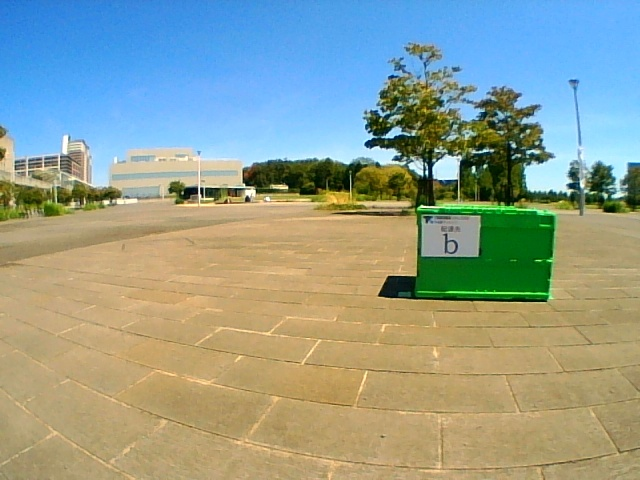green_box: (415, 206, 555, 300)
tag_b: (422, 215, 478, 256)
